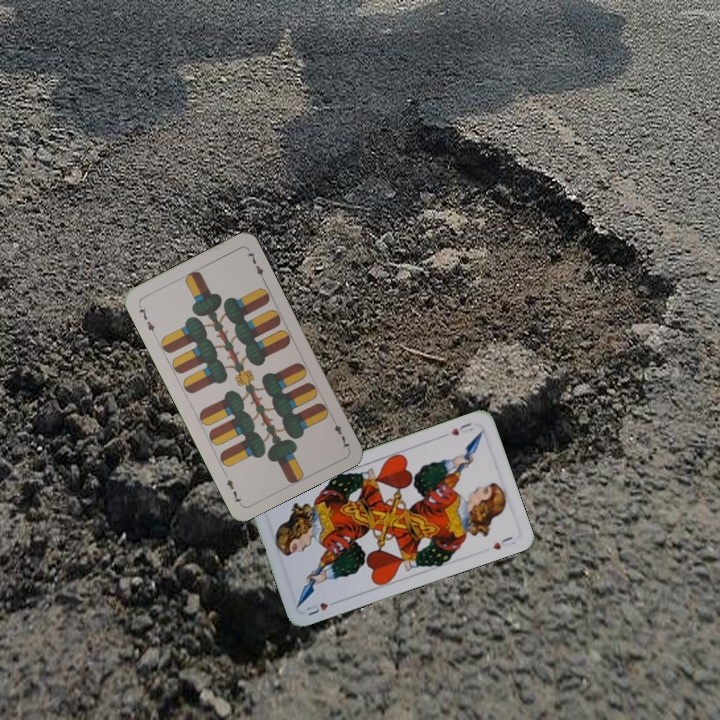E7: (134, 301, 159, 338), (328, 414, 352, 451)
HU: (302, 597, 341, 618), (447, 419, 476, 438)
